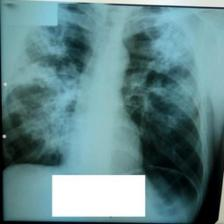tuberculosis: (3, 2, 207, 224)
